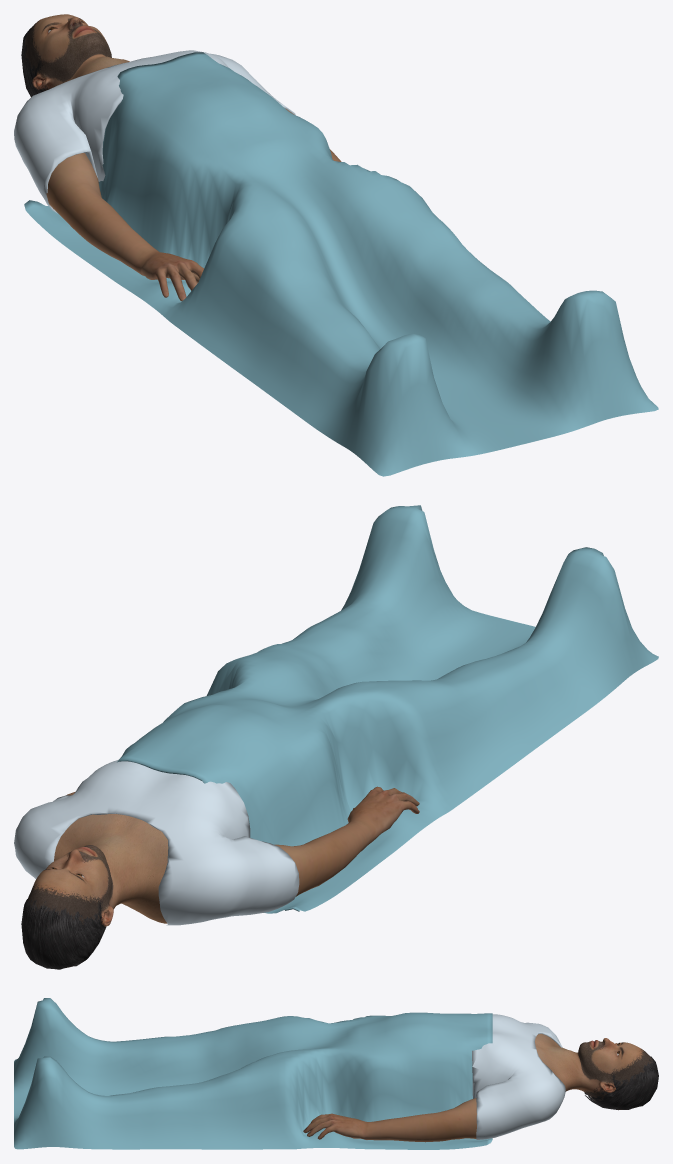
3 renders of one model, top to bottom at view 1: azimuth 30°, elevation 25°; view 2: azimuth 150°, elevation 25°; view 3: azimuth 270°, elevation 25°, orthographic. The views are drawn at different scales.
Visible parts, largest first — view 1: sheet, gown, arms, body; view 2: sheet, gown, body, arms, hair; view 3: sheet, gown, body, arms, hair.
Part boxes in pixels (left/top/right/bottom): sheet: left=24, top=52, right=658, bottom=476; gown: left=14, top=50, right=295, bottom=213; arms: left=46, top=108, right=341, bottom=301; body: left=24, top=14, right=129, bottom=90; sheet: left=117, top=505, right=658, bottom=913; gown: left=14, top=760, right=299, bottom=925; body: left=27, top=814, right=168, bottom=967; arms: left=66, top=786, right=419, bottom=896; hair: left=21, top=899, right=106, bottom=969; sheet: left=14, top=998, right=492, bottom=1149; gown: left=472, top=1014, right=565, bottom=1139; body: left=535, top=1033, right=653, bottom=1110; arms: left=303, top=1098, right=476, bottom=1142; hair: left=584, top=1056, right=658, bottom=1109.
Bounding box in the file's own units: 0.6433 × 0.2831 × 1.94.
Materials: 8 (6 with a texture image).
